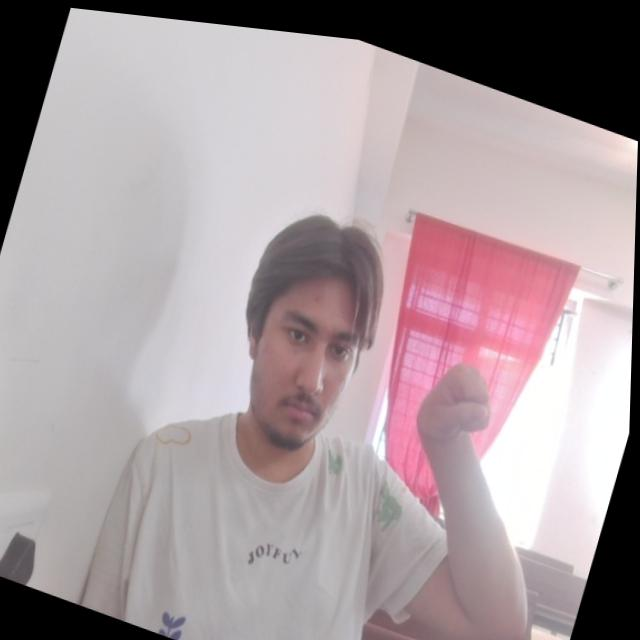yes: (408, 337, 509, 454)
